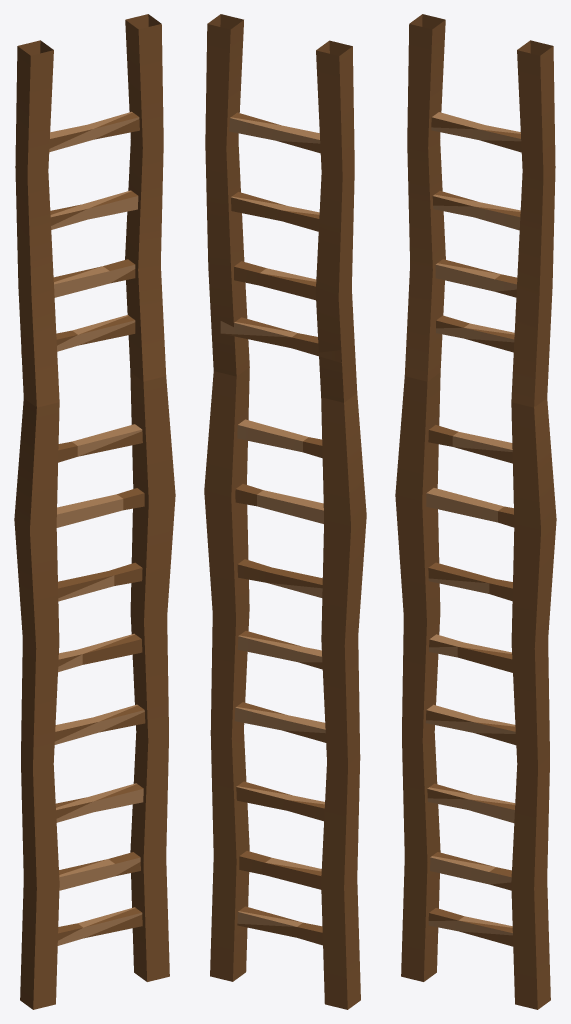
The model's file is LPSWP_Ladder02.fbx.
3 views of the same model, side by side, from view 1: azimuth 30°, elevation 25°; view 2: azimuth 150°, elevation 25°; view 3: azimuth 330°, elevation 25° (orthographic).
Parts seen in each view (by area): view 1: LPSWP_Ladder02; view 2: LPSWP_Ladder02; view 3: LPSWP_Ladder02.
Part boxes in pixels (<box>): LPSWP_Ladder02: <box>14,14,175,1009</box>; LPSWP_Ladder02: <box>204,14,366,1009</box>; LPSWP_Ladder02: <box>395,14,556,1009</box>.
Size of the model in its own units: 0.7892 by 4.91 by 0.1859.
